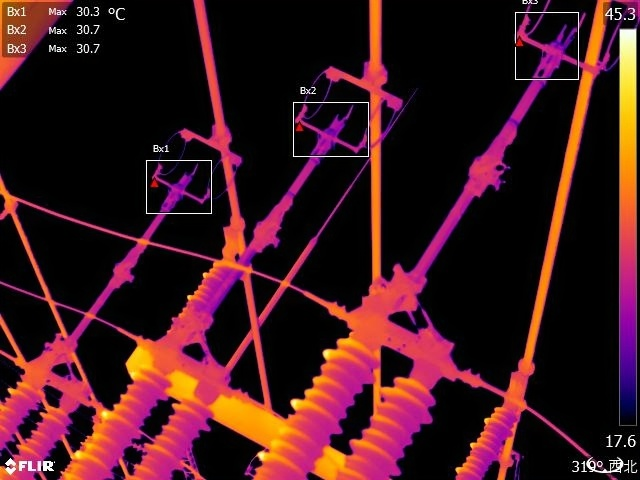post insulator: (238, 350, 384, 480), (53, 362, 164, 480), (340, 376, 435, 480), (135, 398, 213, 480), (1, 406, 79, 480), (454, 410, 519, 480), (176, 257, 233, 317), (1, 381, 47, 445)
switch: (384, 35, 561, 302), (162, 138, 339, 338), (55, 177, 185, 357)
